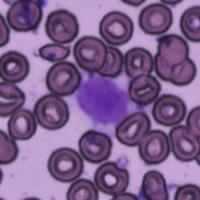L: (73, 74, 130, 127)
